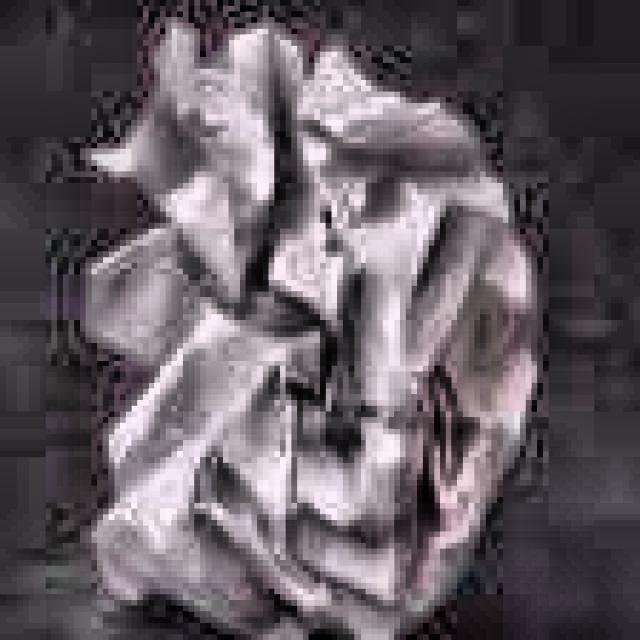paper: (74, 9, 546, 640)
